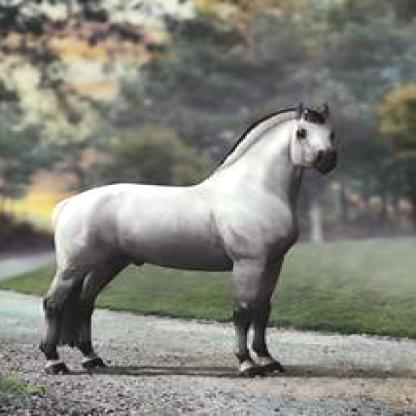horse: (39, 100, 342, 378)
